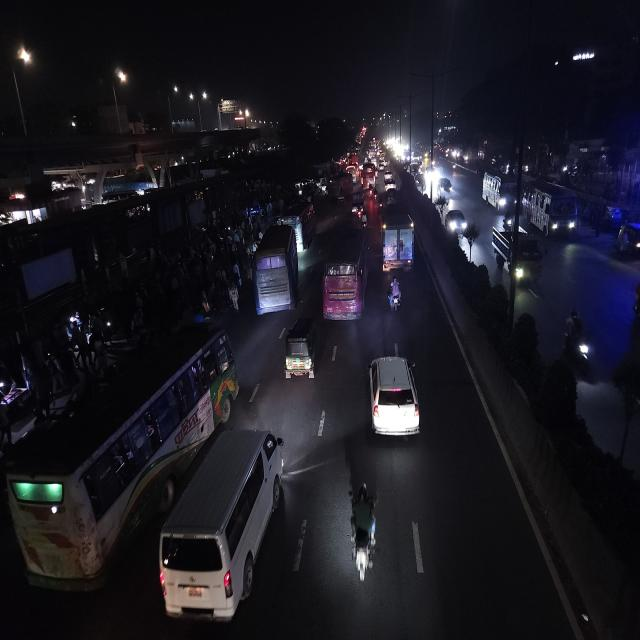bus: (1, 324, 236, 600), (248, 222, 301, 321), (320, 229, 371, 329), (524, 182, 578, 242), (281, 200, 317, 254), (480, 170, 517, 214), (358, 162, 376, 188)
car: (156, 428, 286, 626), (362, 348, 422, 449), (490, 221, 544, 289), (444, 206, 466, 235), (351, 191, 367, 220), (438, 176, 453, 198), (382, 171, 396, 191)
cng: (282, 312, 322, 388)
motorcycle: (345, 478, 383, 583), (561, 308, 596, 380), (386, 273, 402, 316), (368, 182, 376, 201)
truck: (378, 198, 418, 282)
